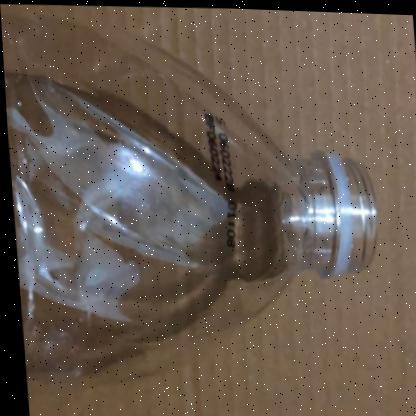open bottle: (22, 10, 416, 411)
